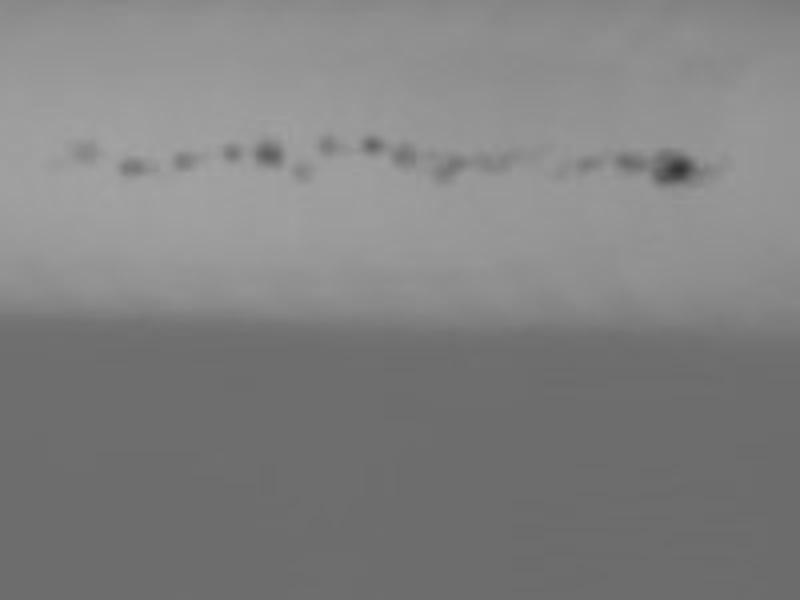defect: (656, 148, 691, 186), (433, 152, 467, 190), (119, 156, 158, 178), (616, 149, 649, 174), (391, 141, 419, 168), (74, 141, 104, 166), (316, 132, 345, 156), (173, 149, 202, 171), (256, 141, 281, 166), (292, 164, 314, 187), (221, 141, 242, 162), (367, 135, 386, 154), (580, 156, 601, 172)
